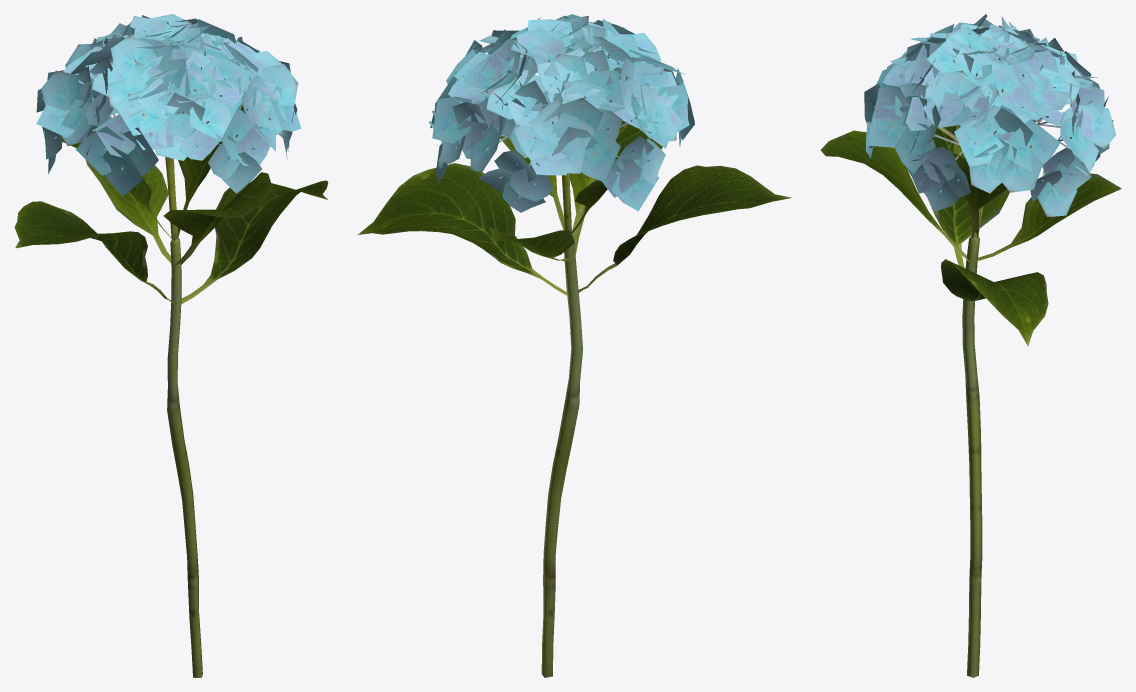
Rendered from Hydrangea_OG_normal_cyan.glb.
3 renders of one model, left to right at view 1: azimuth 30°, elevation 25°; view 2: azimuth 150°, elevation 25°; view 3: azimuth 270°, elevation 25°, orthographic. The views are drawn at different scales.
Visible parts, largest first — view 1: Hydrangea; view 2: Hydrangea; view 3: Hydrangea.
Part boxes in pixels (<box>): Hydrangea: <box>14,14,328,677</box>; Hydrangea: <box>358,14,791,677</box>; Hydrangea: <box>820,14,1121,677</box>.
Bounding box in the file's own units: 1.38 × 2.31 × 1.
1 material, 1 textured.
